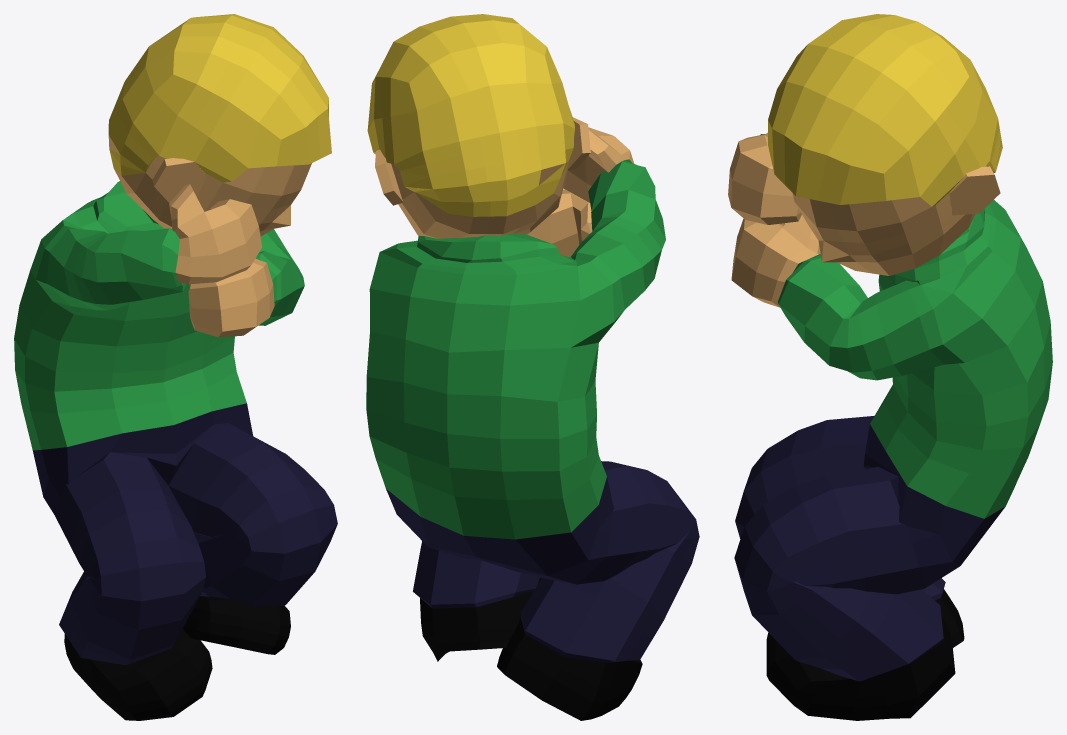
Rendered from Student2.fbx.
3 views of the same model, side by side, from view 1: azimuth 30°, elevation 25°; view 2: azimuth 150°, elevation 25°; view 3: azimuth 270°, elevation 25° (orthographic). The views are drawn at different scales.
Parts seen in each view (by area): view 1: Body; view 2: Body; view 3: Body.
Part boxes in pixels (box(x1,y1,x2,y2)): Body: box(14, 14, 337, 720); Body: box(366, 14, 699, 720); Body: box(728, 14, 1052, 720).
Bounding box in the file's own units: 5.02 × 11.92 × 4.87.
